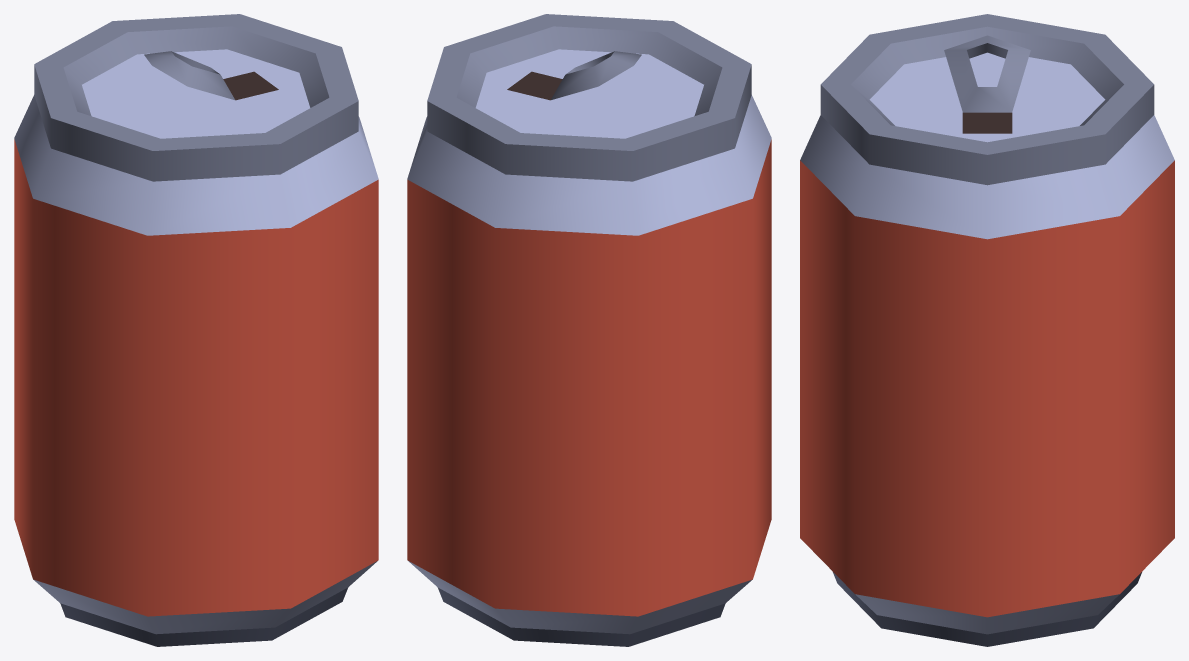
Rendered from lata-refri.glb.
3 views of the same model, side by side, from view 1: azimuth 30°, elevation 25°; view 2: azimuth 150°, elevation 25°; view 3: azimuth 270°, elevation 25° (orthographic).
Parts seen in each view (by area): view 1: soda-can; view 2: soda-can; view 3: soda-can.
Boxes of the visible parts, <box> form: soda-can: <box>14,14,378,646</box>; soda-can: <box>407,14,771,646</box>; soda-can: <box>800,14,1174,646</box>.
Bounding box in the file's own units: 0.2246 × 0.3506 × 0.2246.
